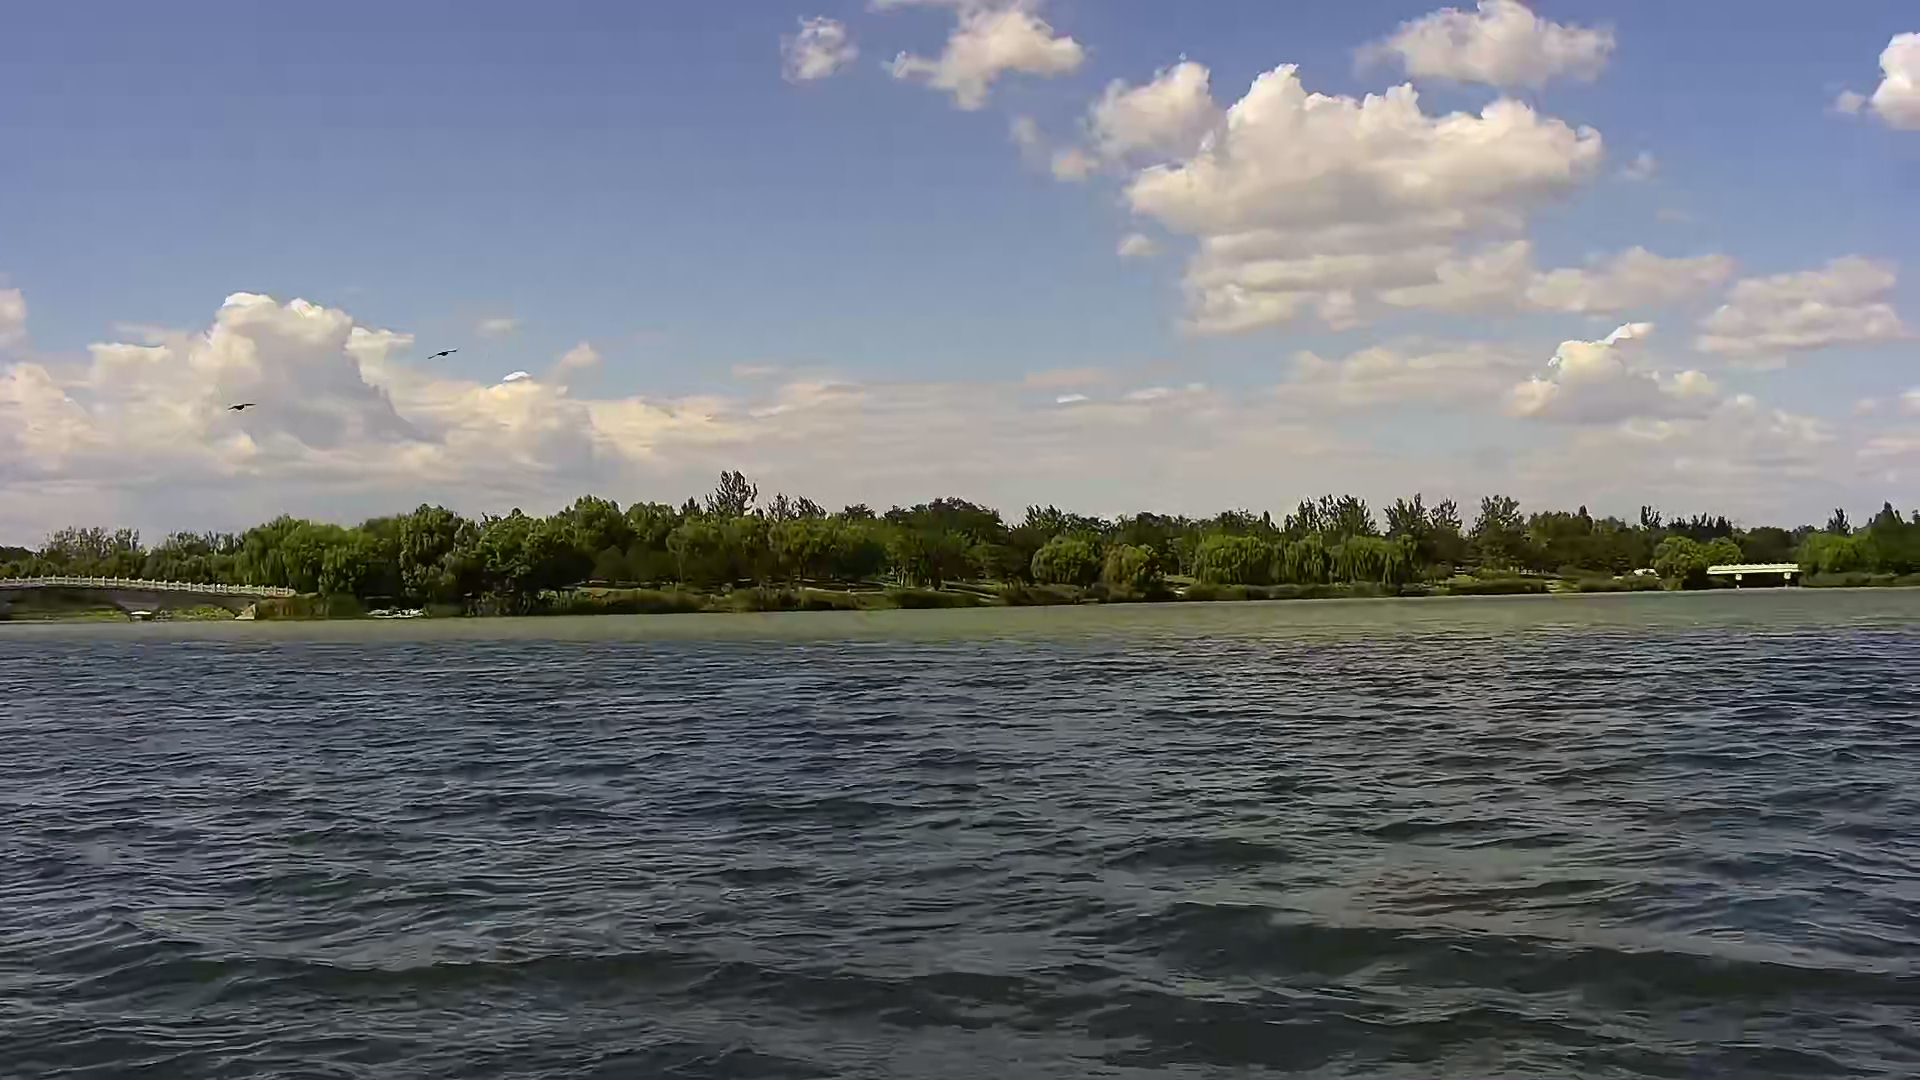bridge: (4, 568, 305, 625), (1692, 559, 1807, 593)
